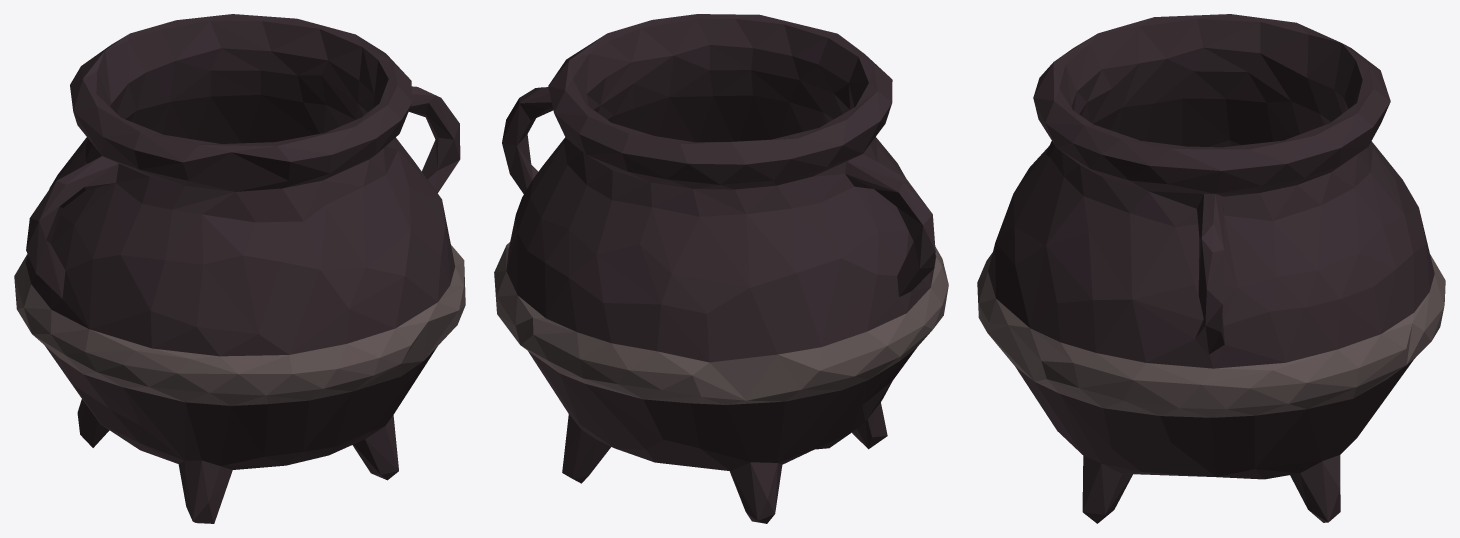
The model's file is MDungeon_Caldron.FBX.
The picture shows the model from 3 angles, left to right: view 1: azimuth 30°, elevation 25°; view 2: azimuth 150°, elevation 25°; view 3: azimuth 270°, elevation 25°; orthographic projection. The views are drawn at different scales.
Parts seen in each view (by area): view 1: MDungeon_Caldron_LOD0; view 2: MDungeon_Caldron_LOD0; view 3: MDungeon_Caldron_LOD0.
Boxes of the visible parts, x1,y1,x2,y2 form: MDungeon_Caldron_LOD0: (14, 14, 465, 523); MDungeon_Caldron_LOD0: (494, 14, 948, 523); MDungeon_Caldron_LOD0: (977, 14, 1445, 523).
Size of what is drawn, in the model's own units: 1.63 by 1.4 by 1.48.
Materials: 1 (1 with a texture image).
